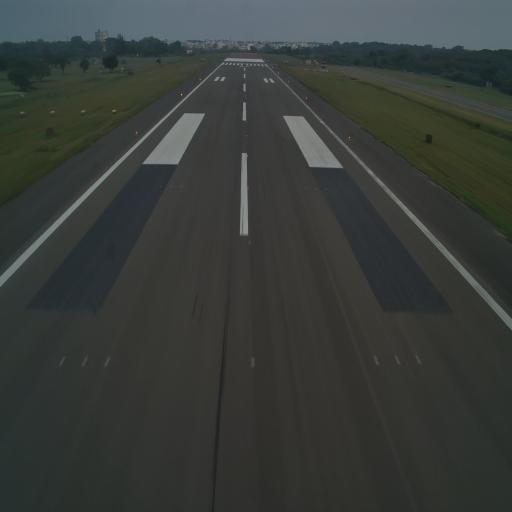off: (101, 352, 111, 370), (413, 352, 423, 370), (81, 354, 91, 370), (393, 351, 402, 367), (58, 354, 67, 369), (372, 354, 382, 366), (247, 234, 253, 248), (314, 184, 320, 195), (179, 184, 184, 192), (158, 181, 162, 190), (168, 183, 173, 190), (304, 183, 308, 191), (324, 186, 328, 194)
on: (250, 354, 258, 371), (245, 182, 250, 192), (246, 153, 249, 158)
